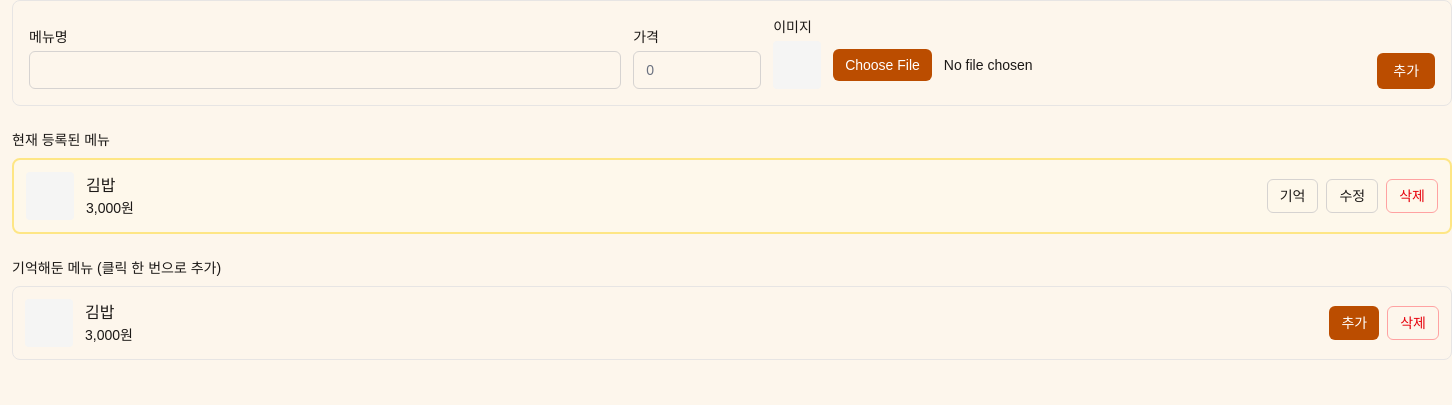
MenuManager 메뉴 추가/수정/삭제 › 이미 등록된 메뉴와 이름이 같은 기억해둔 메뉴는 추가할 때 중복으로 생성되지 않는다
This screenshot has width=1452, height=405.
What coordinates should you click on to do the following:
click the 2nd button "추가"
I would click on:
 (1354, 323)
Its box is [1330,306,1379,340].
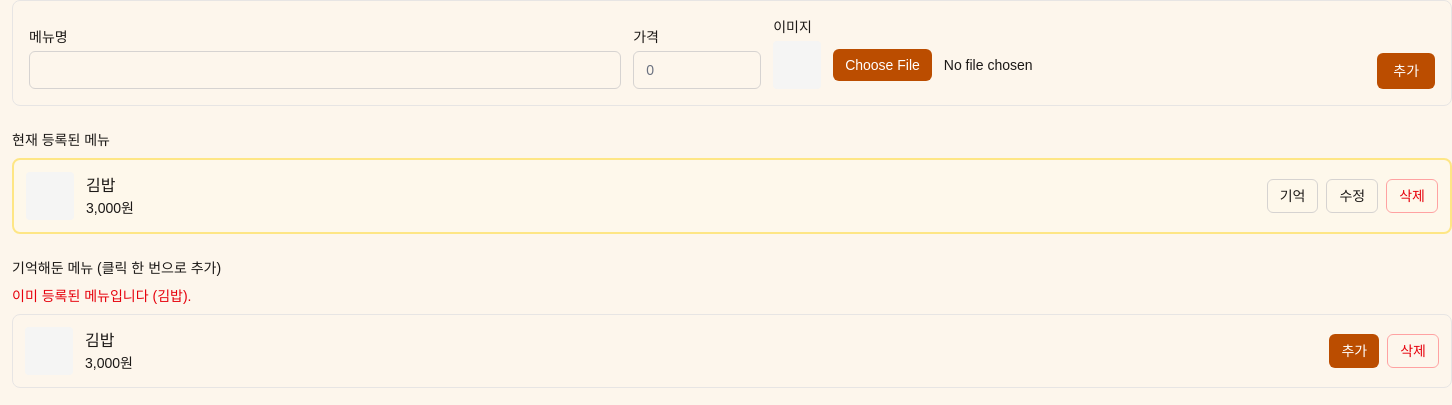
Result: the text "이미 등록된 메뉴입니다 (김밥)." is shown at [12,288,192,304]
